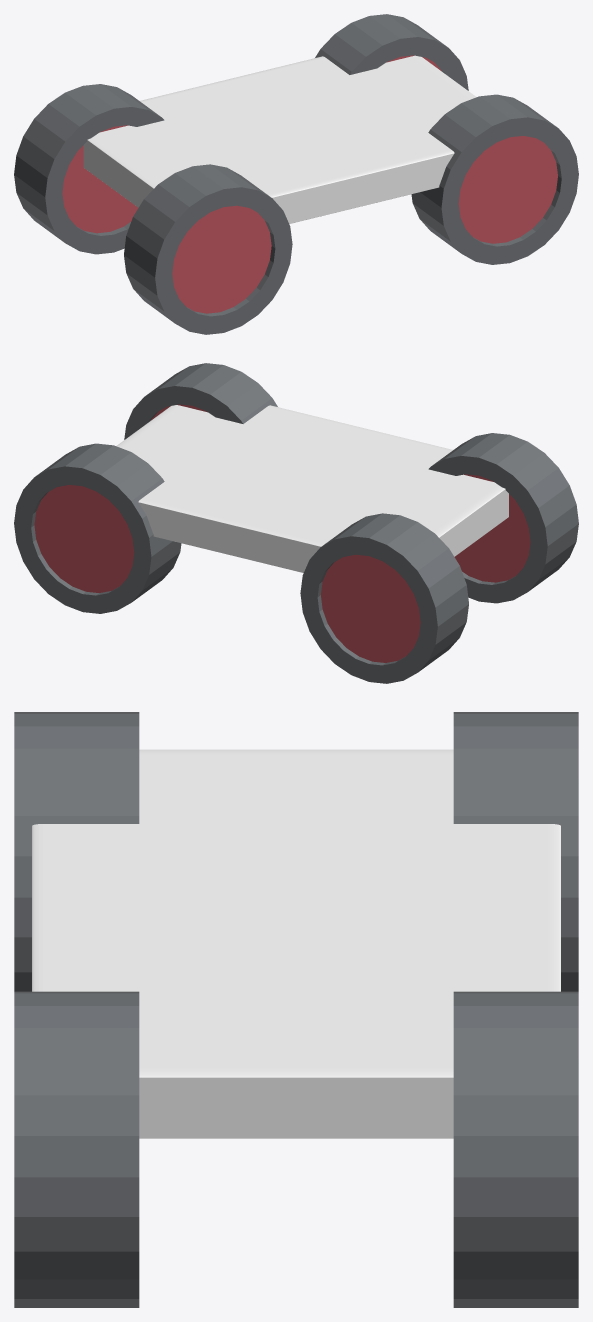
File: Treads.fbx
The picture shows the model from 3 angles, top to bottom: view 1: azimuth 30°, elevation 25°; view 2: azimuth 150°, elevation 25°; view 3: azimuth 270°, elevation 25°; orthographic projection. The views are drawn at different scales.
Parts seen in each view (by area): view 1: obj_0; view 2: obj_0; view 3: obj_0.
Part boxes in pixels (box(x1,y1,x2,y2)): obj_0: box(14, 14, 578, 334); obj_0: box(14, 363, 578, 683); obj_0: box(14, 712, 578, 1307).
Size of the model in its own units: 4405 by 1429 by 2540.
